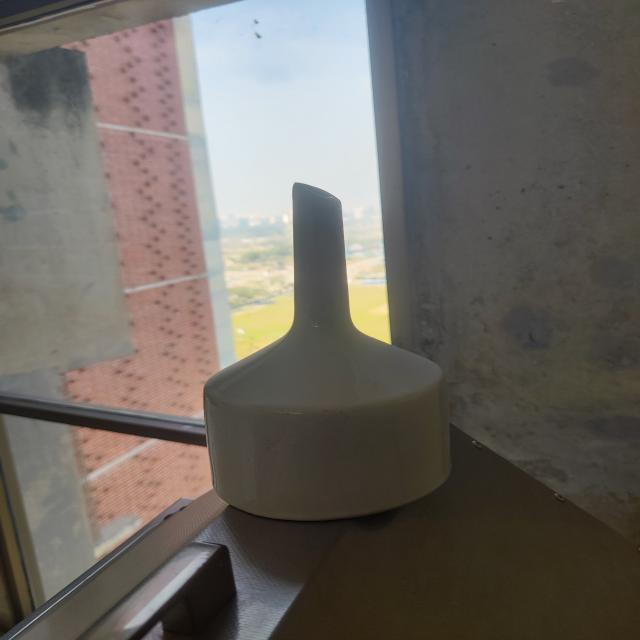Buchner_Funnel: (133, 152, 526, 554)
